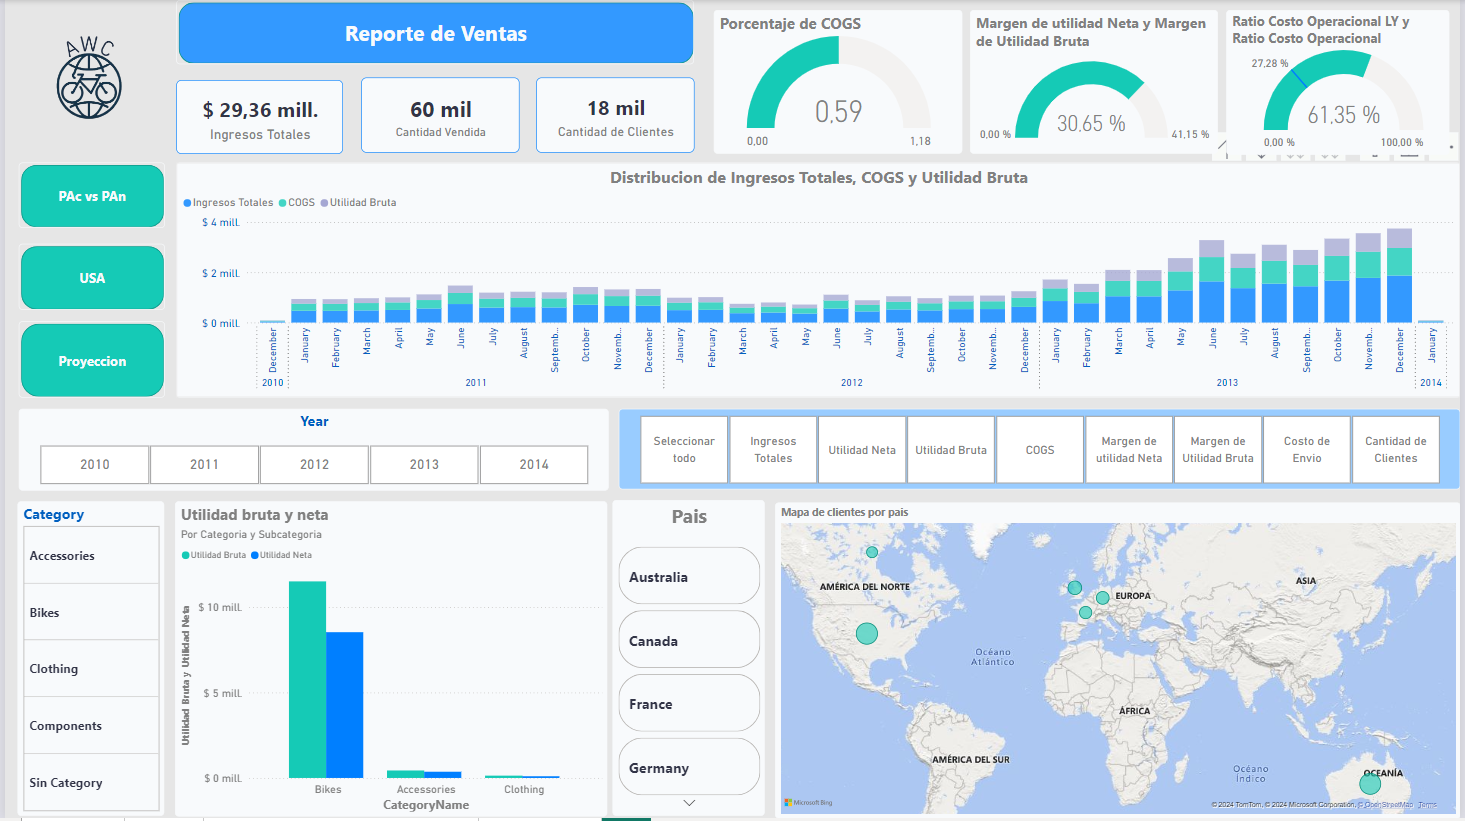

This screenshot's page, from the dashboard's own definition file:
{"tool":"powerbi","page":{"name":"General","canvas":[1920,1080],"ordinal":0},"visuals":[{"type":"card","fields":{"Values":["Medidas.Ingresos Totales"]},"box":[225.5,104.9,220.1,97.7],"z":0,"group":"g4"},{"type":"columnChart","title":"Distribucion de Ingresos Totales, COGS y Utilidad Bruta ","fields":{"Category":["FactInternetSales.OrderDate.Variation.Date Hierarchy.Year","FactInternetSales.OrderDate.Variation.Date Hierarchy.Month"],"Y":["Medidas.Ingresos Totales","Medidas.COGS","Medidas.Utilidad Bruta"]},"box":[225.5,214,1694.5,310.2],"z":0},{"type":"map","title":"Mapa de clientes por pais","fields":{"Size":["Medidas.Cantidad de Clientes"],"Category":["DimCustomer.SalesTerritoryCountry"]},"box":[1016.4,662.9,904.7,416.5],"z":0,"group":"g3"},{"type":"card","fields":{"Values":["Medidas.Cantidad Vendidad"]},"box":[470.3,102,208.5,99.1],"z":1000,"group":"g4"},{"type":"shape","title":"USA","box":[18.7,321.7,192.4,87.6],"z":1000},{"type":"advancedSlicerVisual","title":"Pais ","fields":{"Values":["DimCustomer.SalesTerritoryCountry"]},"box":[802.4,660.1,201,416.5],"z":1000,"group":"g3"},{"type":"card","fields":{"Values":["Medidas.Cantidad de Clientes"]},"box":[700.3,102.6,208.5,99.1],"z":2000,"group":"g4"},{"type":"shape","title":"USA","box":[18.7,214,192.4,86.2],"z":2000},{"type":"image","box":[0,0,225.5,201],"z":3000},{"type":"group","id":"g1","title":"Group 1","box":[225.3,661.8,571.5,414.7],"z":3000,"group":"g3"},{"type":"slicer","title":"Year","fields":{"Values":["FactInternetSales.OrderDate.Variation.Date Hierarchy.Year"]},"box":[18.7,540,778.3,107.7],"z":4000},{"type":"clusteredColumnChart","title":"Utilidad bruta y neta","fields":{"Category":["DimProduct.CategoryName","DimProduct.SubcategoryName"],"Y":["Medidas.Utilidad Bruta","Medidas.Utilidad Neta"]},"box":[225.3,661.8,570.4,415.7],"z":4000,"group":"g1"},{"type":"slicer","title":"Parametro de mapa","fields":{"Values":["Parameter.Parameter"]},"box":[809.9,540,1110.1,106.3],"z":5000},{"type":"group","id":"g2","title":"Group 2","box":[935.1,13.2,970.7,191],"z":6000},{"type":"gauge","title":"Ratio Costo Operacional LY y Ratio Costo Operacional","fields":{"Y":["Medidas.Ratio Costo Operacional"],"TargetValue":["Medidas.Ratio Costo Operacional LY"]},"box":[1611.1,13.2,294.7,191],"z":6000,"group":"g2"},{"type":"gauge","title":"Margen de utilidad Neta y Margen de Utilidad Bruta","fields":{"MaxValue":["Medidas.Margen de Utilidad Bruta"],"Y":["Medidas.Margen de utilidad Neta"]},"box":[1273.3,13.7,326.9,189.5],"z":7000,"group":"g2"},{"type":"shape","title":"USA","box":[18.7,423.6,192.4,100.5],"z":7000},{"type":"group","id":"g3","title":"Group 4","box":[17.1,660.1,1904,419.2],"z":8000},{"type":"group","id":"g4","title":"Group 3","box":[225.5,102,683.6,100.5],"z":9000},{"type":"shape","title":"Periodo actual vs periodo anterior","box":[225.5,0,683.6,84.7],"z":10000},{"type":"gauge","title":"Porcentaje de COGS","fields":{"Y":["Medidas.% de COGS"]},"box":[935.1,13.7,328.1,189.5],"z":11000,"group":"g2"},{"type":"advancedSlicerVisual","title":"Category","fields":{"Values":["DimProduct.CategoryName"]},"box":[17.1,661.4,193.6,414.9],"z":12000,"group":"g3"}]}

Visuals, with their boxes in screenshot pixels (x1, y1, x2, y2), scaled from the page's 1920x1080 canvas onto the 1465x821 screenshot:
card - Medidas.Ingresos Totales: (172, 80, 340, 154)
"Distribucion de Ingresos Totales, COGS y Utilidad Bruta " columnChart: (172, 163, 1464, 398)
"Mapa de clientes por pais" map: (776, 504, 1464, 820)
card - Medidas.Cantidad Vendidad: (359, 78, 518, 153)
"USA" shape: (14, 245, 161, 311)
"Pais " advancedSlicerVisual: (612, 502, 766, 818)
card - Medidas.Cantidad de Clientes: (534, 78, 693, 153)
"USA" shape: (14, 163, 161, 228)
image: (0, 0, 172, 153)
"Group 1" group: (172, 503, 608, 818)
"Year" slicer: (14, 410, 608, 492)
"Utilidad bruta y neta" clusteredColumnChart: (172, 503, 607, 819)
"Parametro de mapa" slicer: (618, 410, 1464, 491)
"Group 2" group: (714, 10, 1454, 155)
"Ratio Costo Operacional LY y Ratio Costo Operacional" gauge: (1229, 10, 1454, 155)
"Margen de utilidad Neta y Margen de Utilidad Bruta" gauge: (972, 10, 1221, 154)
"USA" shape: (14, 322, 161, 398)
"Group 4" group: (13, 502, 1464, 820)
"Group 3" group: (172, 78, 694, 154)
"Periodo actual vs periodo anterior" shape: (172, 0, 694, 64)
"Porcentaje de COGS" gauge: (714, 10, 964, 154)
"Category" advancedSlicerVisual: (13, 503, 161, 818)
